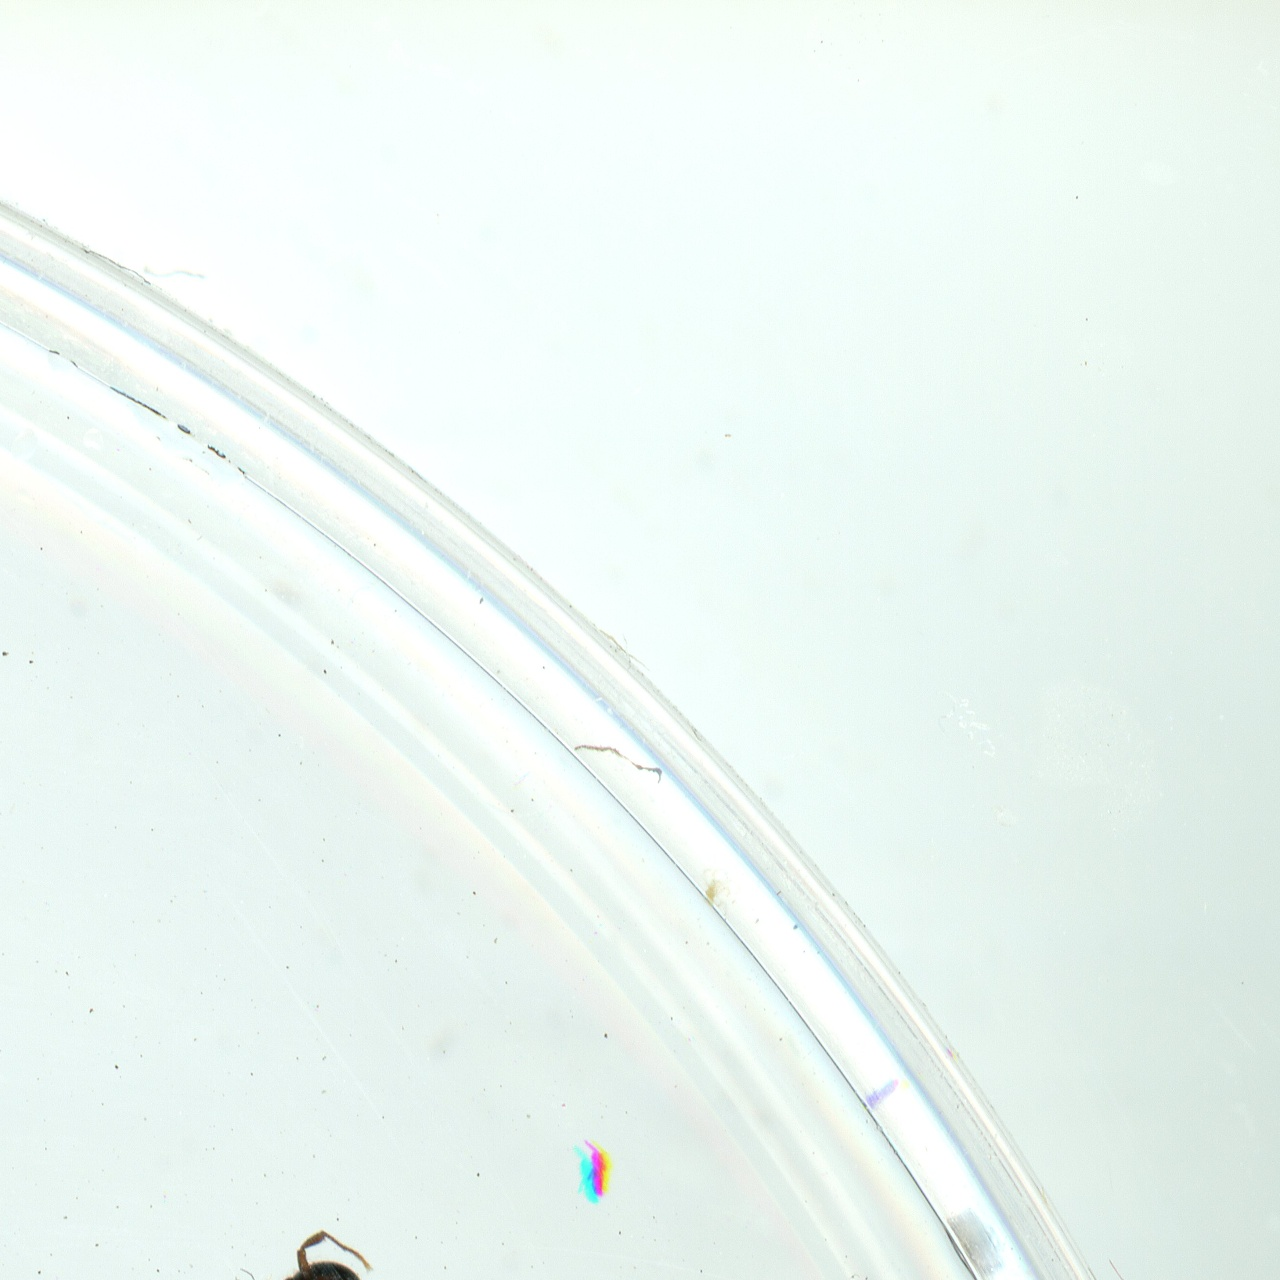arthropod: (227, 1226, 377, 1280), (567, 1135, 615, 1205)
